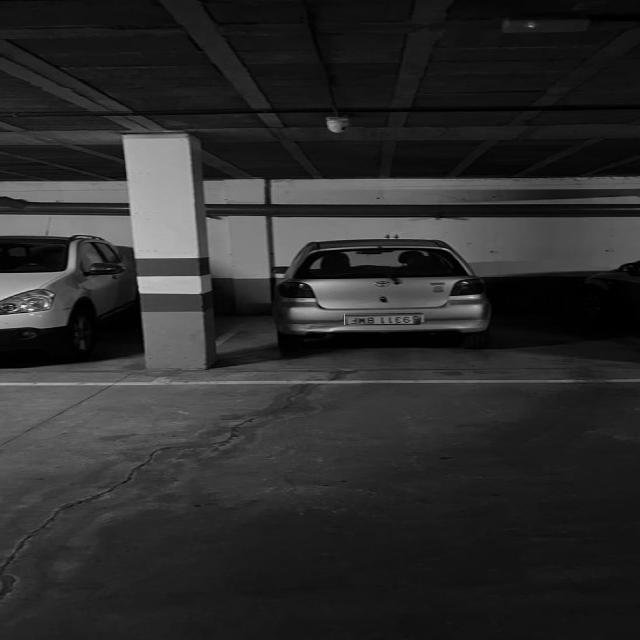License-Plate: (344, 313, 421, 325)
